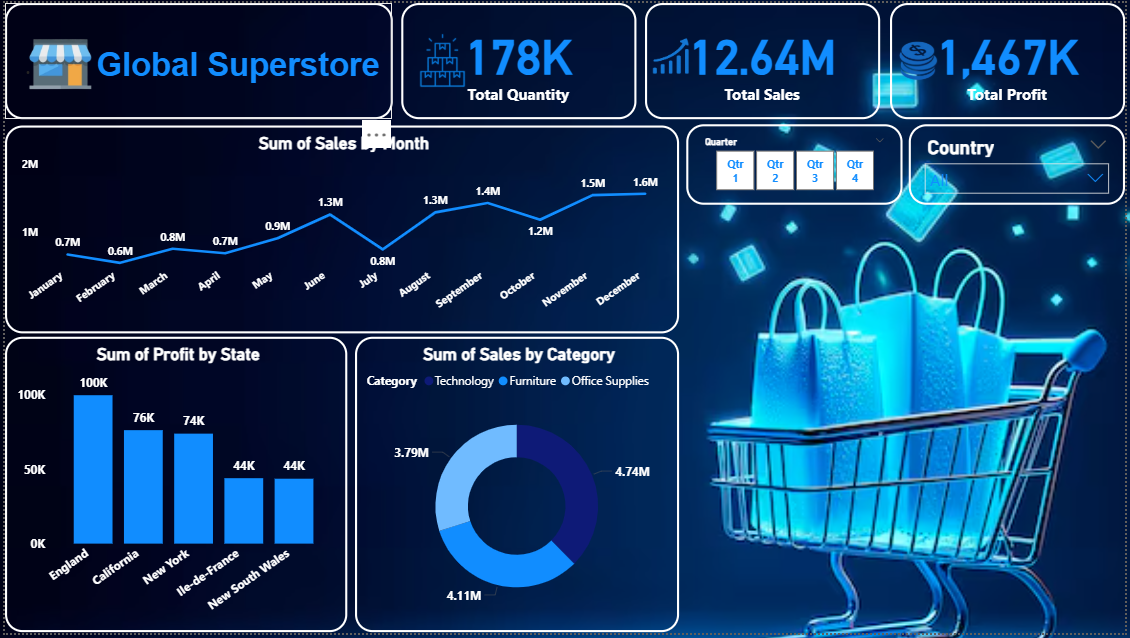

What the dashboard file says about the page in this screenshot:
{"tool":"powerbi","page":{"name":" Dashborad 3","canvas":[1280,720],"ordinal":2},"visuals":[{"type":"card","fields":{"Values":["Sum(Orders.Profit)"]},"box":[1011.4,0,268.6,132.9],"z":0},{"type":"card","fields":{"Values":["Sum(Orders.Sales)"]},"box":[731.4,0,268.6,132.9],"z":1000},{"type":"card","fields":{"Values":["Sum(Orders.Quantity)"]},"box":[452.3,0,268.6,132.6],"z":2000},{"type":"textbox","box":[0,0,442.9,132.9],"z":3000},{"type":"image","box":[0,14,126.7,95.3],"z":4000},{"type":"lineChart","fields":{"Category":["Orders.Order Date.Variation.Date Hierarchy.Month"],"Y":["Sum(Orders.Sales)"]},"box":[0,139.8,770,237.6],"z":5000},{"type":"columnChart","fields":{"Category":["Orders.State"],"Y":["Sum(Orders.Profit)"]},"box":[0,382.1,391.4,337.8],"z":6000},{"type":"donutChart","fields":{"Y":["Sum(Orders.Sales)"],"Category":["Orders.Category"]},"box":[399.6,382.1,370.4,337.8],"z":7000},{"type":"image","box":[462.5,14,74.6,102.5],"z":8000},{"type":"image","box":[731.6,23.3,60.6,75.7],"z":9000},{"type":"image","box":[994.8,23.3,95.5,87.4],"z":10000},{"type":"slicer","fields":{"Values":["Orders.Ship Date.Variation.Date Hierarchy.Quarter"]},"box":[778.2,138.6,247,92],"z":11000},{"type":"slicer","fields":{"Values":["Orders.Country"]},"box":[1033,138.6,247,92],"z":12000}]}

Visuals, with their boxes in screenshot pixels (x1, y1, x2, y2), scaled from the page's 1280x720 canvas onto the 1130x638 screenshot:
card - Sum(Orders.Profit): [left=893, top=0, right=1129, bottom=118]
card - Sum(Orders.Sales): [left=646, top=0, right=883, bottom=118]
card - Sum(Orders.Quantity): [left=399, top=0, right=636, bottom=117]
textbox: [left=0, top=0, right=391, bottom=118]
image: [left=0, top=12, right=112, bottom=97]
lineChart - Orders.Order Date.Variation.Date Hierarchy.Month x Sum(Orders.Sales): [left=0, top=124, right=680, bottom=334]
columnChart - Orders.State x Sum(Orders.Profit): [left=0, top=339, right=346, bottom=637]
donutChart - Sum(Orders.Sales) x Orders.Category: [left=353, top=339, right=680, bottom=637]
image: [left=408, top=12, right=474, bottom=103]
image: [left=646, top=21, right=699, bottom=88]
image: [left=878, top=21, right=963, bottom=98]
slicer - Orders.Ship Date.Variation.Date Hierarchy.Quarter: [left=687, top=123, right=905, bottom=204]
slicer - Orders.Country: [left=912, top=123, right=1129, bottom=204]
